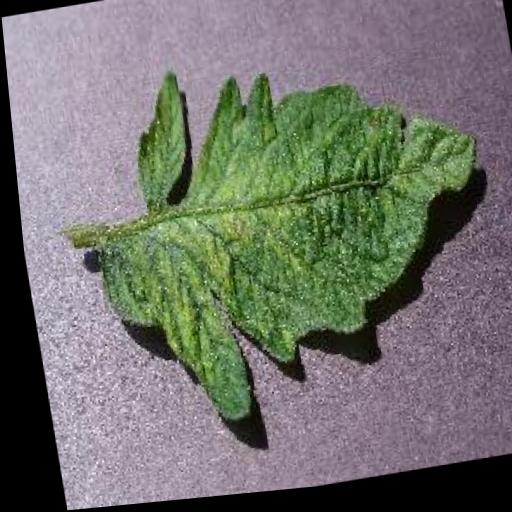Mosaic Virus: (61, 27, 512, 444)
